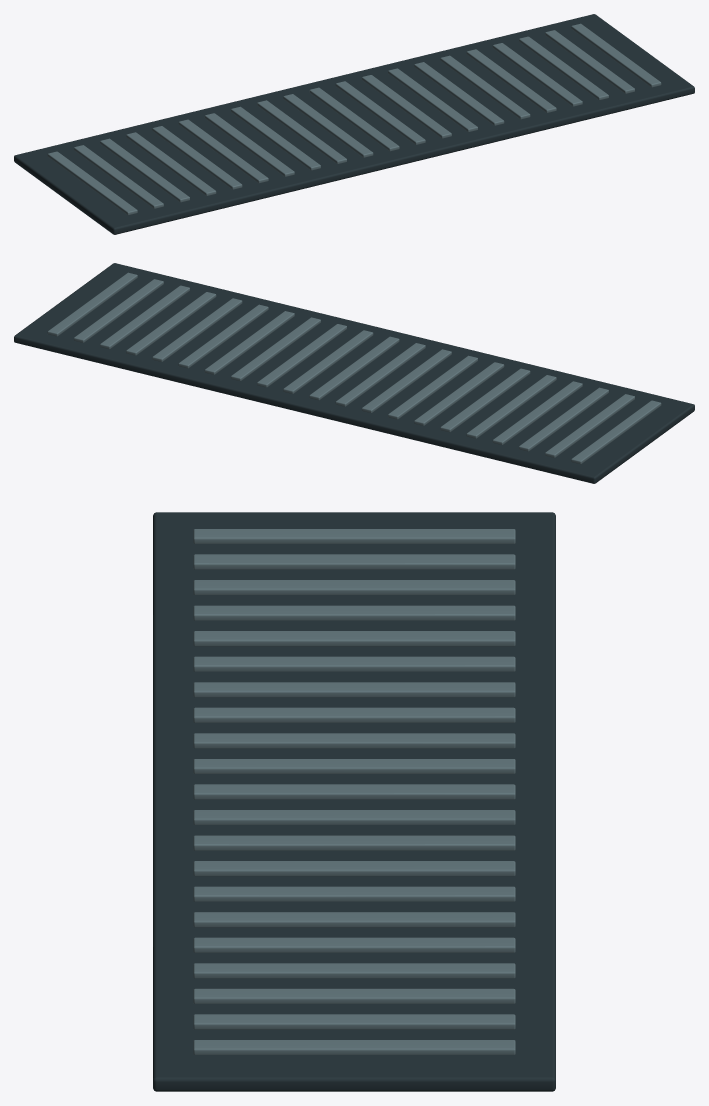
File: storm_drain.glb
3 renders of one model, top to bottom at view 1: azimuth 30°, elevation 25°; view 2: azimuth 150°, elevation 25°; view 3: azimuth 270°, elevation 25°, orthographic. The views are drawn at different scales.
Parts seen in each view (by area): view 1: storm_drain; view 2: storm_drain; view 3: storm_drain.
Boxes of the visible parts, box(x1,y1,x2,y2) form: storm_drain: box(14, 14, 694, 234); storm_drain: box(14, 263, 694, 483); storm_drain: box(153, 512, 555, 1091).
Size of the model in its own units: 2 by 0.034 by 0.6.
